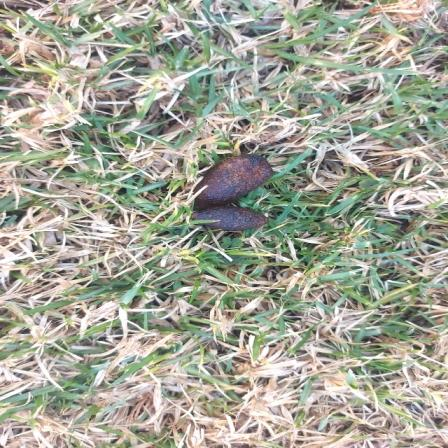dog-poop: (191, 147, 278, 227)
